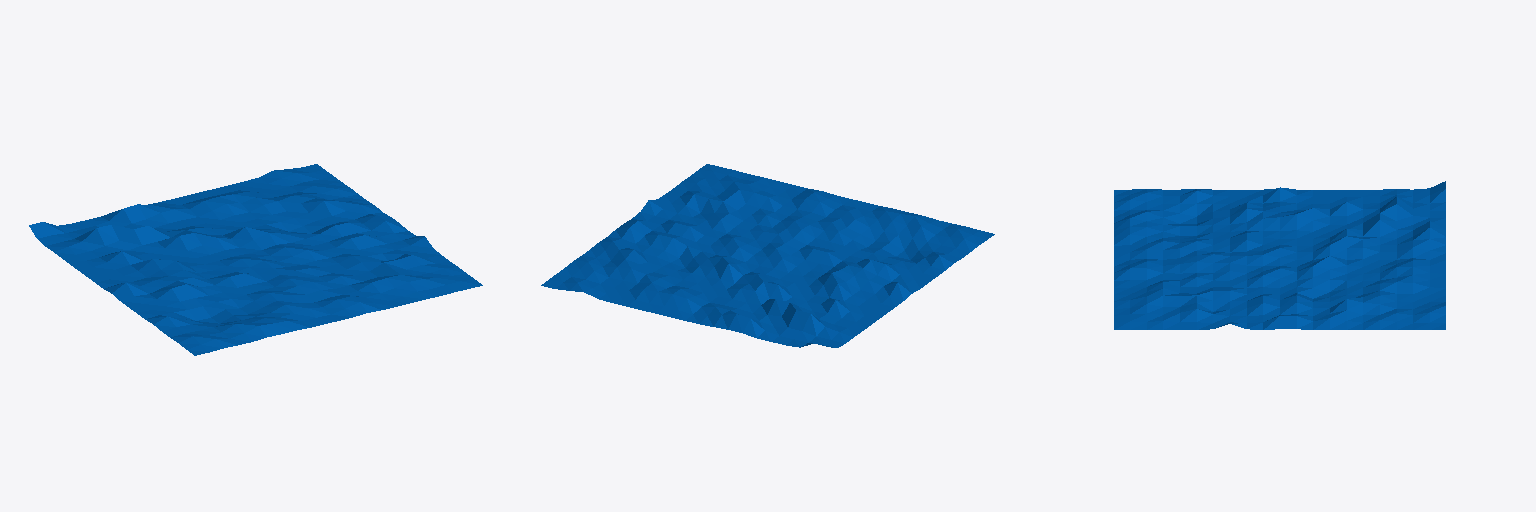
Rendered from Water.obj.
3 views of the same model, side by side, from view 1: azimuth 30°, elevation 25°; view 2: azimuth 150°, elevation 25°; view 3: azimuth 270°, elevation 25° (orthographic).
Parts seen in each view (by area): view 1: Mesh1 Group1 Model; view 2: Mesh1 Group1 Model; view 3: Mesh1 Group1 Model.
Part boxes in pixels (x1,y1,x2,y2): Mesh1 Group1 Model: (29, 164, 482, 355); Mesh1 Group1 Model: (541, 164, 994, 347); Mesh1 Group1 Model: (1114, 181, 1445, 329).
Bounding box in the file's own units: 60 × 3.99 × 60.